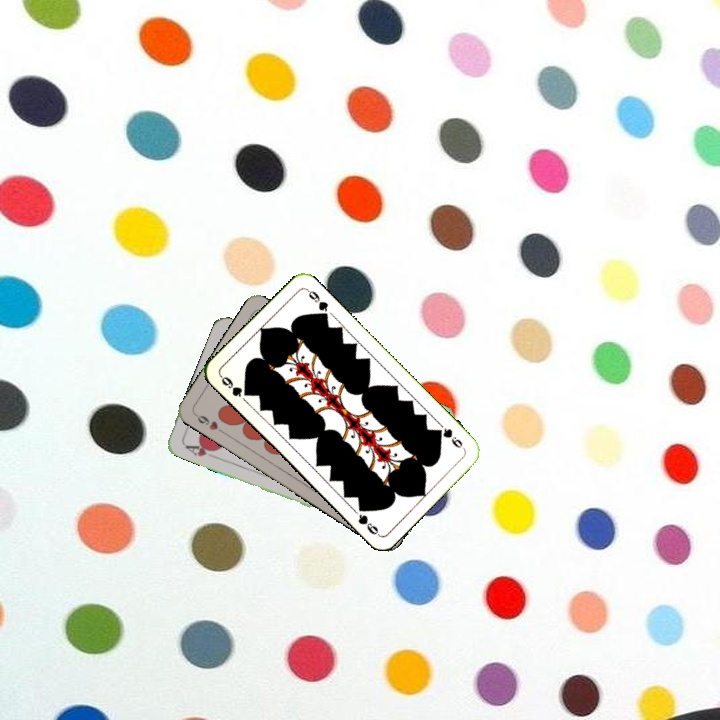G9: (216, 371, 253, 400), (432, 424, 467, 452)
H9: (191, 410, 228, 436)
HA: (181, 440, 220, 461)
